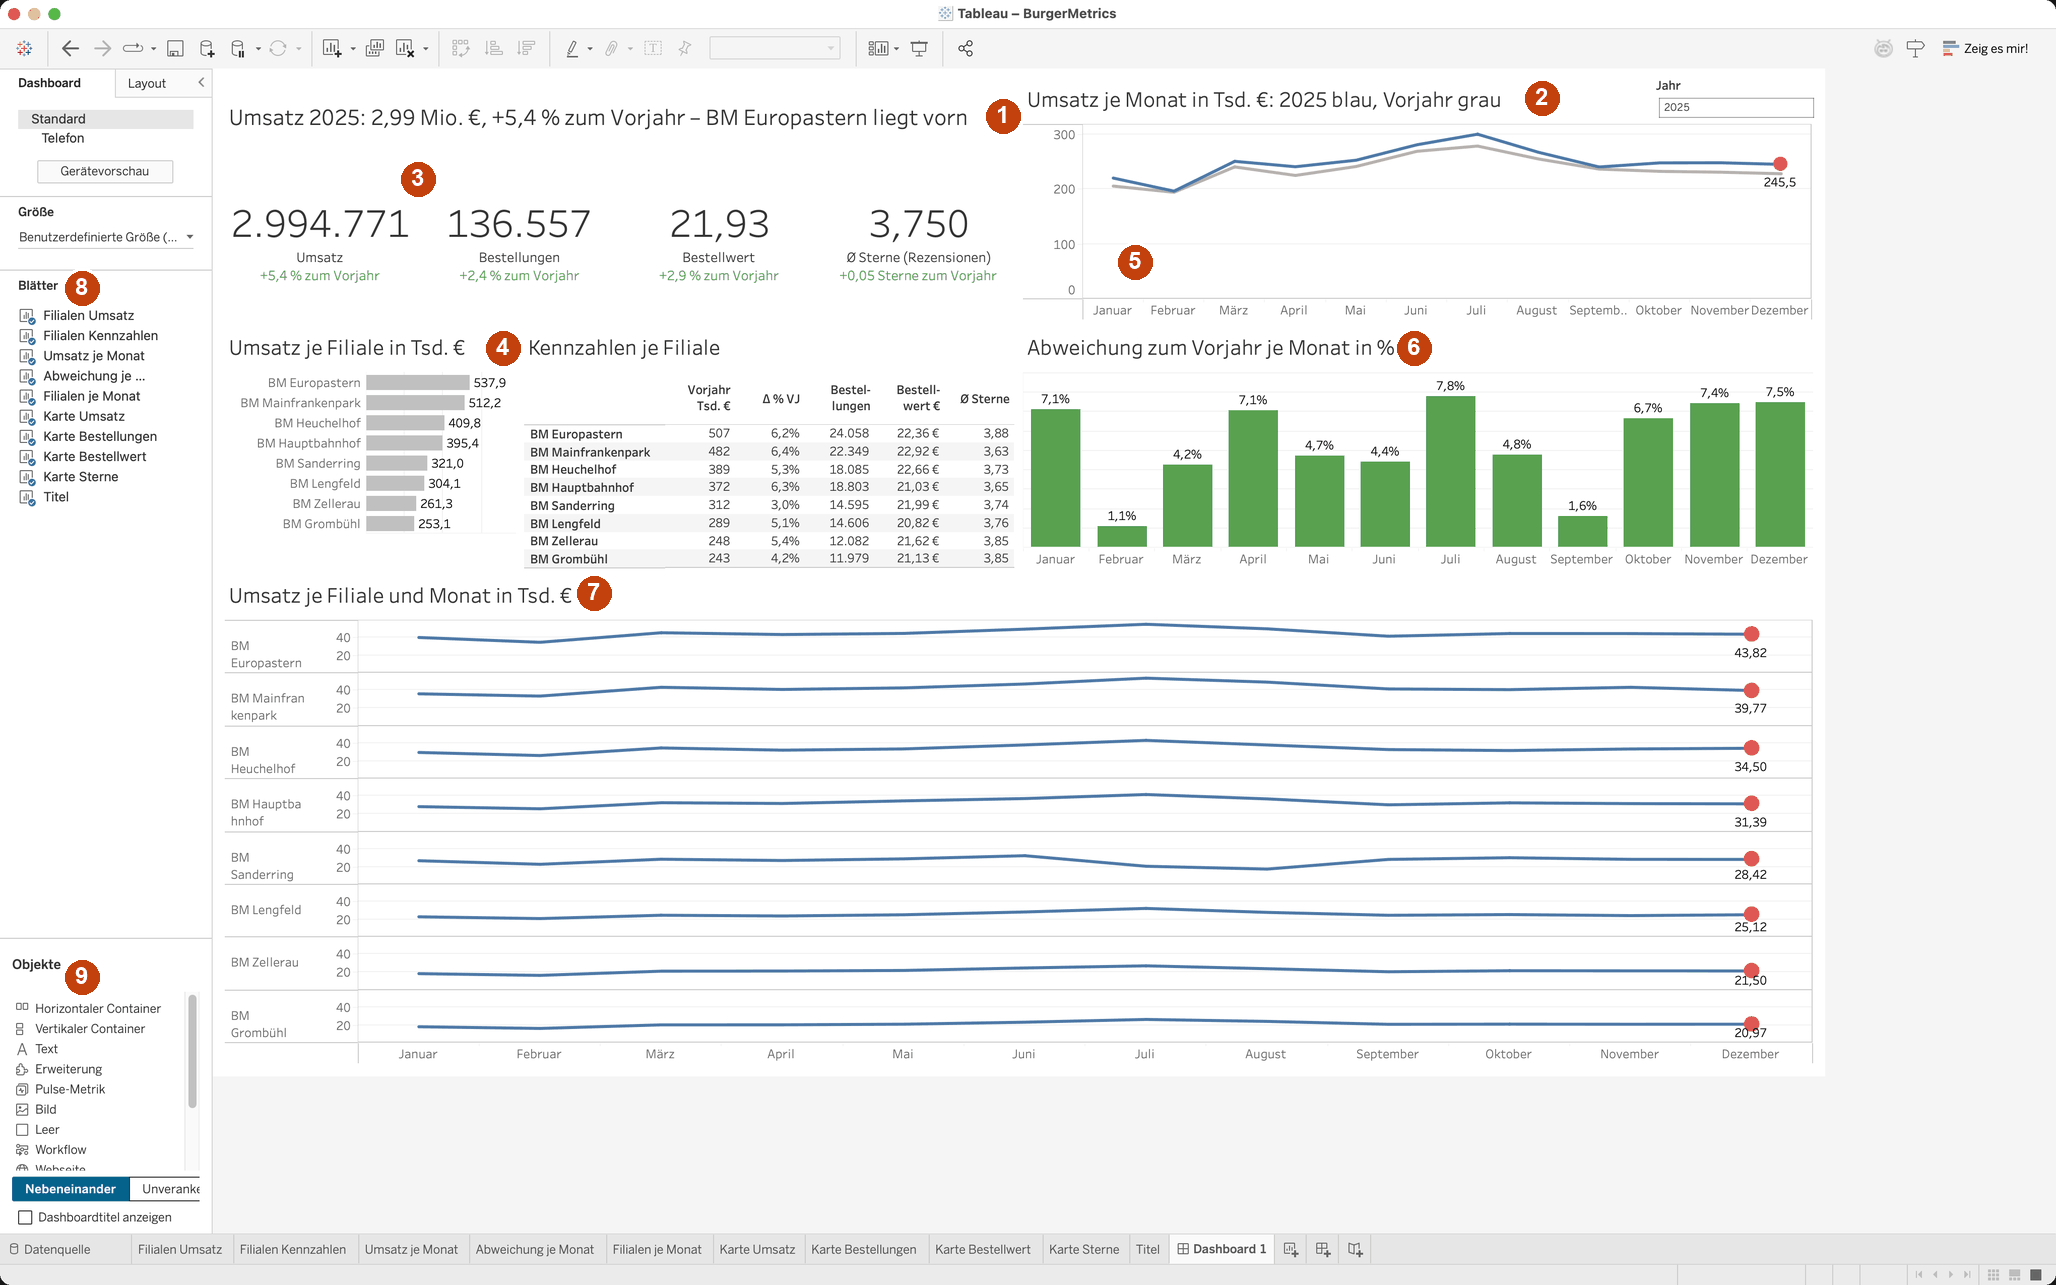

The dashboard page shown, as its layout file describes it:
{"tool":"tableau","page":{"name":"Dashboard 1","canvas":[1600,1000],"ordinal":0},"visuals":[{"type":"worksheet","title":"Titel","mark":"Automatic","box":[8,8,792,80]},{"type":"worksheet","title":"Umsatz je Monat","mark":"Automatic","rows":["Calculation_5100132365418516"],"cols":["date"],"box":[800,8,792,246]},{"type":"parameter","param":"[Parameters].[Parameter 5100132363096068]","box":[1432,8,160,52]},{"type":"worksheet","title":"Karte Umsatz","mark":"Automatic","box":[8,88,198,166]},{"type":"worksheet","title":"Karte Bestellungen","mark":"Automatic","box":[206,88,198,166]},{"type":"worksheet","title":"Karte Bestellwert","mark":"Automatic","box":[404,88,198,166]},{"type":"worksheet","title":"Karte Sterne","mark":"Automatic","box":[602,88,198,166]},{"type":"worksheet","title":"Filialen Umsatz","mark":"Automatic","rows":["branch_name"],"cols":["Calculation_5100132365291538"],"box":[8,254,297,246]},{"type":"worksheet","title":"Filialen Kennzahlen","mark":"Automatic","rows":["branch_name"],"box":[305,254,495,246]},{"type":"worksheet","title":"Abweichung je Monat","mark":"Bar","rows":["Calculation_5100132363948041"],"cols":["date"],"box":[800,254,792,246]},{"type":"worksheet","title":"Filialen je Monat","mark":"Automatic","rows":["branch_name","Calculation_5100132365291538","Calculation_5100132365418516"],"cols":["date"],"box":[8,500,1584,492]}]}

Visuals, with their boxes on the page's 1600x1000 design canvas (x1, y1, x2, y2). These are canvas units, not pixel positions in the 2056x1285 screenshot, which may show the page scaled, cropped or inside an application window:
"Titel" worksheet: 8:8:800:88
"Umsatz je Monat" worksheet: 800:8:1592:254
parameter: 1432:8:1592:60
"Karte Umsatz" worksheet: 8:88:206:254
"Karte Bestellungen" worksheet: 206:88:404:254
"Karte Bestellwert" worksheet: 404:88:602:254
"Karte Sterne" worksheet: 602:88:800:254
"Filialen Umsatz" worksheet: 8:254:305:500
"Filialen Kennzahlen" worksheet: 305:254:800:500
"Abweichung je Monat" worksheet (Bar marks): 800:254:1592:500
"Filialen je Monat" worksheet: 8:500:1592:992
